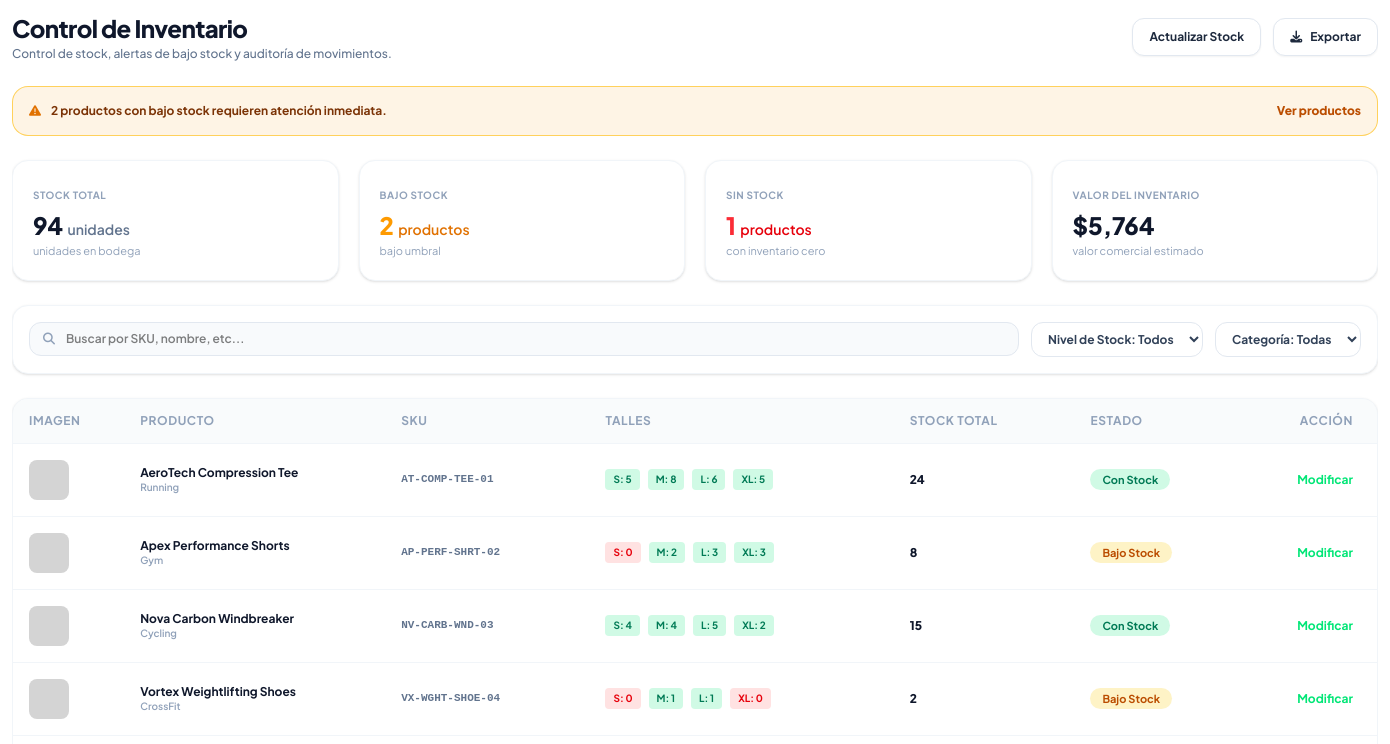
it: AdminInventory › modifica el stock de un producto desplegando el editor
Click the button "Modificar" in the row of "Running": (1325, 480) [1297,472,1353,488]
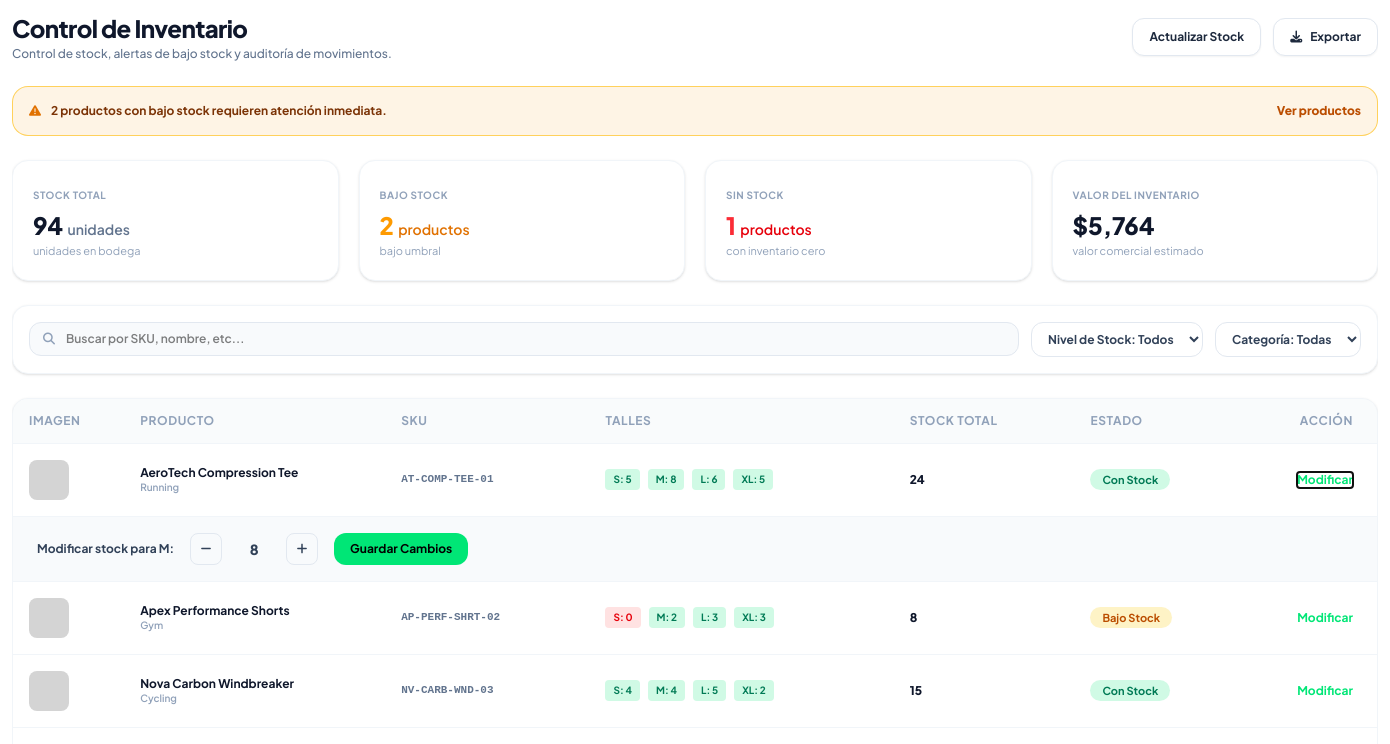
Expected: the text "Modificar stock para M:" is shown, [37,540,174,556]
